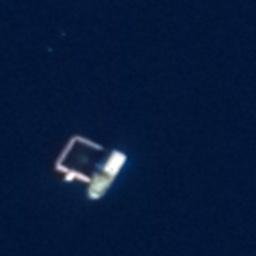square_solid: (50, 130, 118, 192)
